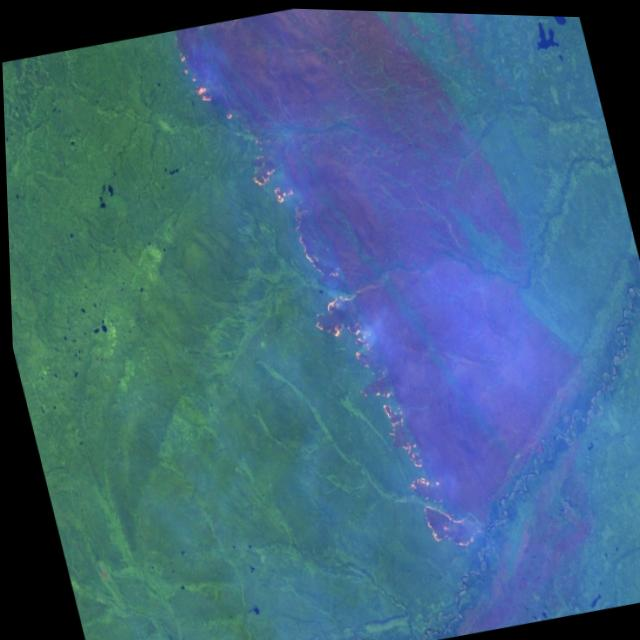fire: (168, 4, 480, 586)
